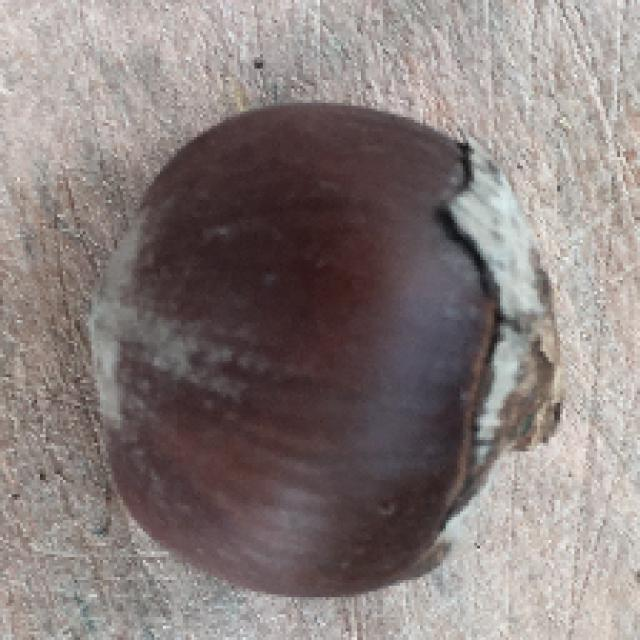damagedHazelnut: (90, 94, 558, 608)
